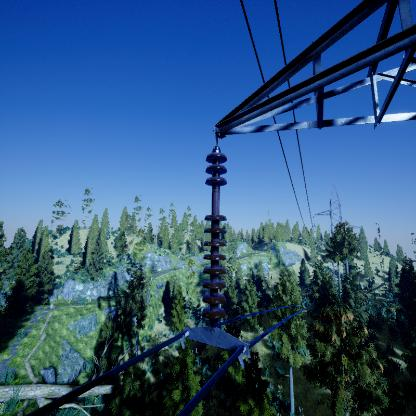insulator: (202, 153, 228, 325)
